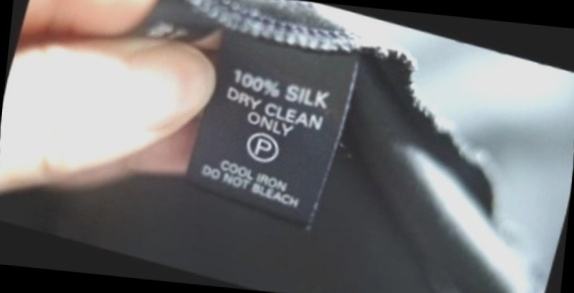dry_clean_any_solvent_except_trichloroethylene: (237, 121, 291, 173)
